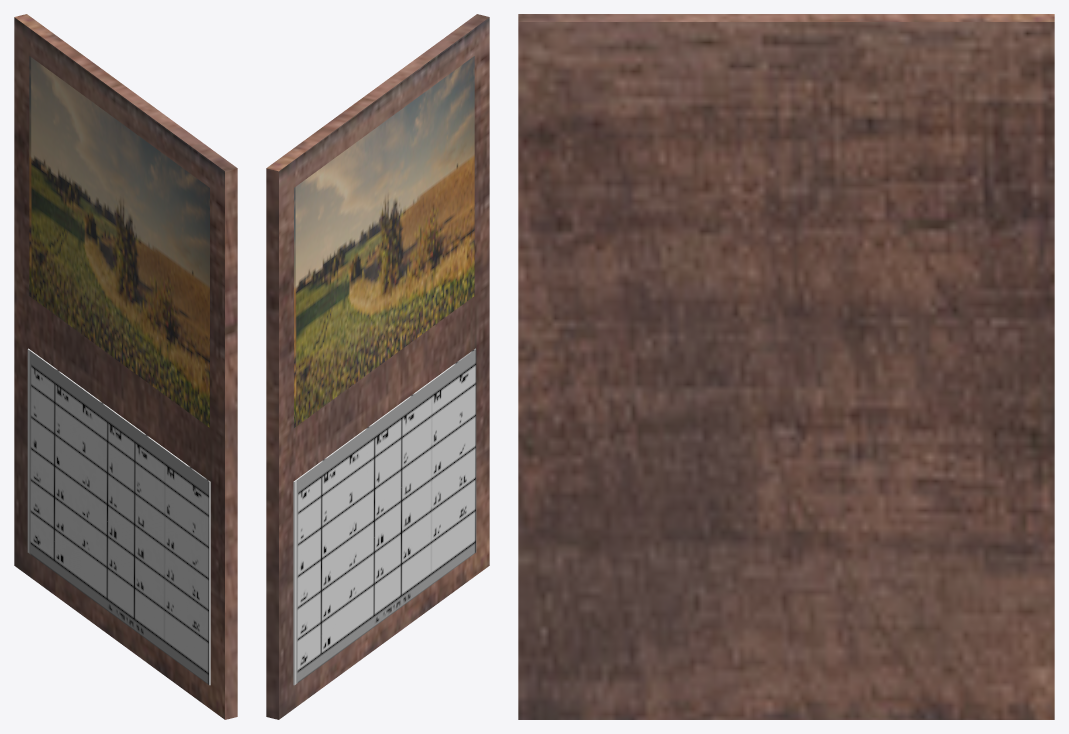
Rendered from calendar.FBX.
3 renders of one model, left to right at view 1: azimuth 30°, elevation 25°; view 2: azimuth 150°, elevation 25°; view 3: azimuth 270°, elevation 25°, orthographic. The views are drawn at different scales.
Visible parts, largest first — view 1: Box001, Object001, Object002; view 2: Box001, Object001, Object002; view 3: Box001.
Boxes of the visible parts, box(x1,y1,x2,y2) form: Box001: box(14, 14, 237, 719); Object001: box(29, 56, 209, 427); Object002: box(27, 348, 210, 685); Box001: box(266, 14, 489, 719); Object001: box(294, 56, 474, 427); Object002: box(293, 348, 476, 685); Box001: box(518, 14, 1054, 719).
Bounding box in the file's own units: 15.02 × 572 × 398.
3 materials, 3 textured.
